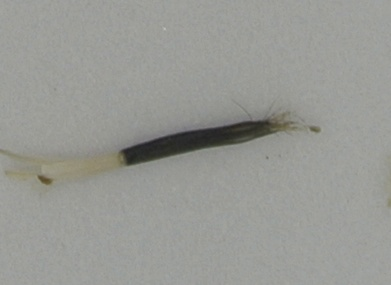เมล้ดปลายพู่กัน: (1, 97, 324, 201)
